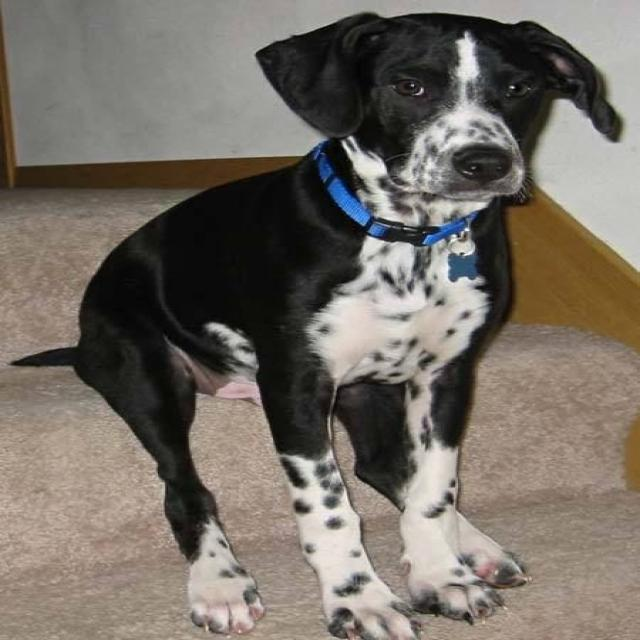dog: (203, 0, 639, 255)
